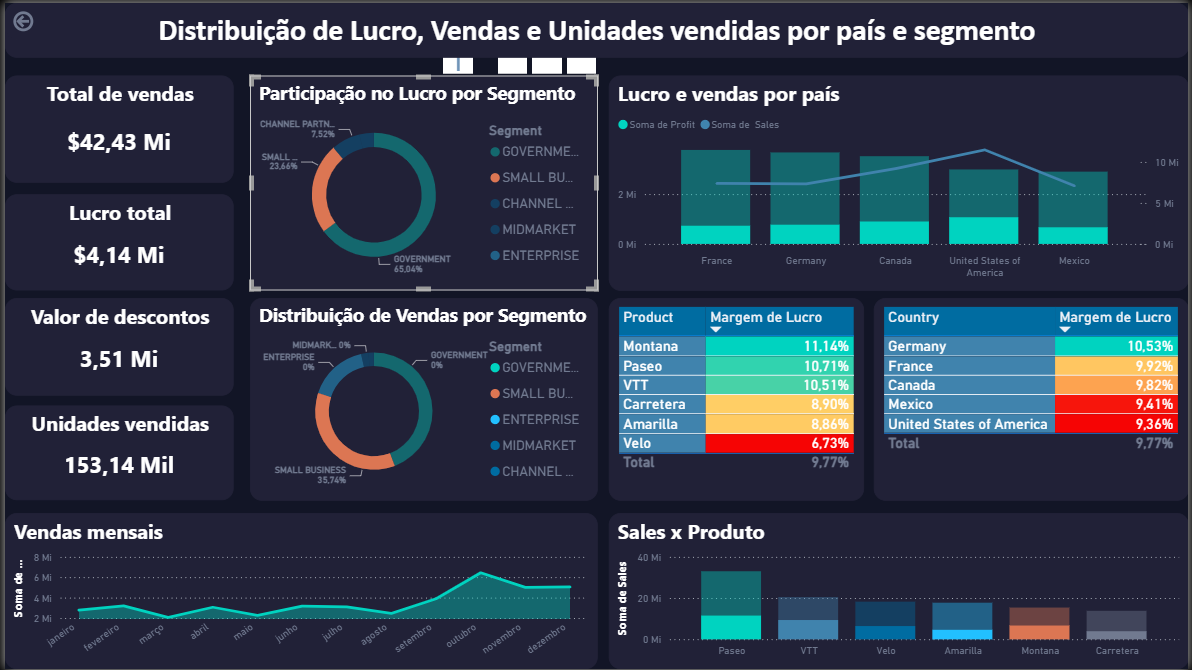

The page's visual inventory and layout, read from the dashboard file:
{"tool":"powerbi","page":{"name":"Página 3","canvas":[1280,720],"ordinal":0},"visuals":[{"type":"donutChart","title":"Participação no Lucro por Segmento","fields":{"Category":["financials.Segment"],"Y":["Sum(financials.Profit)"]},"box":[264.9,78.4,375.7,232.4],"z":0},{"type":"donutChart","title":"Distribuição de Vendas por Segmento","fields":{"Y":["Sum(financials. Sales)"],"Category":["financials.Segment"]},"box":[264.9,318.9,375.7,218.9],"z":1000},{"type":"textbox","box":[0,0,1280,59.1],"z":3000},{"type":"card","title":"Lucro total","fields":{"Values":["Sum(financials.Profit)"]},"box":[0,206.8,247.3,104.1],"z":4000},{"type":"actionButton","box":[0,0,100,40],"z":5000},{"type":"card","title":"Unidades vendidas","fields":{"Values":["Sum(financials.Units Sold)"]},"box":[0,435.1,247.3,102.7],"z":6000},{"type":"card","title":"Total de vendas","fields":{"Values":["Sum(financials. Sales)"]},"box":[0,78.4,247.3,116.2],"z":7000},{"type":"clusteredColumnChart","title":"Sales x Produto","fields":{"Category":["financials.Product"],"Y":["Sum(financials. Sales)"]},"box":[652.7,551.4,627,168.9],"z":8000},{"type":"card","title":"Valor de descontos","fields":{"Values":["Sum(financials.Discounts)"]},"box":[0,318.9,247.3,105.4],"z":9000},{"type":"areaChart","title":"Vendas mensais","fields":{"Category":["financials.Date.Variation.Hierarquia de datas.Mês"],"Y":["Sum(financials. Sales)"]},"box":[0,551.4,640.5,168.9],"z":10000},{"type":"lineClusteredColumnComboChart","title":"Lucro e vendas por país","fields":{"Category":["financials.Country"],"Y2":["Sum(financials. Sales)"],"Y":["Sum(financials.Profit)"]},"box":[652.7,78.4,627,232.4],"z":11000},{"type":"tableEx","fields":{"Values":["financials.Country","financials.Margem de Lucro"]},"box":[939.2,318.9,340.5,218.9],"z":12000},{"type":"tableEx","fields":{"Values":["financials.Product","financials.Margem de Lucro"]},"box":[652.7,318.9,275.7,218.9],"z":13000}]}

Visuals, with their boxes in screenshot pixels (x1, y1, x2, y2), scaled from the page's 1280x720 canvas onto the 1192x670 screenshot:
"Participação no Lucro por Segmento" donutChart: <bbox>247, 73, 597, 289</bbox>
"Distribuição de Vendas por Segmento" donutChart: <bbox>247, 297, 597, 500</bbox>
textbox: <bbox>0, 0, 1191, 55</bbox>
"Lucro total" card: <bbox>0, 192, 230, 289</bbox>
actionButton: <bbox>0, 0, 93, 37</bbox>
"Unidades vendidas" card: <bbox>0, 405, 230, 500</bbox>
"Total de vendas" card: <bbox>0, 73, 230, 181</bbox>
"Sales x Produto" clusteredColumnChart: <bbox>608, 513, 1191, 669</bbox>
"Valor de descontos" card: <bbox>0, 297, 230, 395</bbox>
"Vendas mensais" areaChart: <bbox>0, 513, 596, 669</bbox>
"Lucro e vendas por país" lineClusteredColumnComboChart: <bbox>608, 73, 1191, 289</bbox>
tableEx - financials.Country x financials.Margem de Lucro: <bbox>875, 297, 1191, 500</bbox>
tableEx - financials.Product x financials.Margem de Lucro: <bbox>608, 297, 865, 500</bbox>
